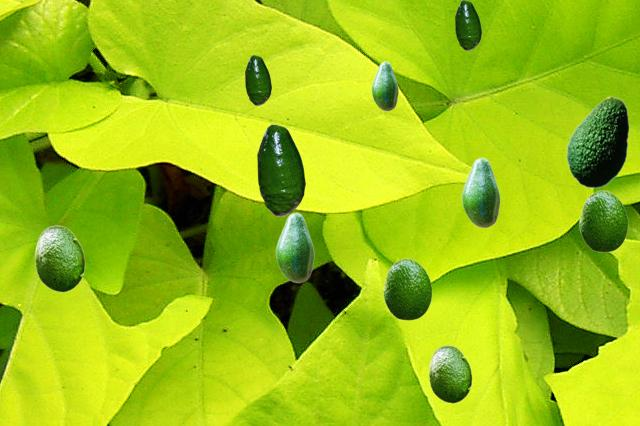avocado: (566, 96, 628, 187), (257, 124, 304, 215), (34, 225, 84, 291), (383, 258, 431, 319), (579, 190, 627, 251), (275, 212, 313, 282), (461, 157, 499, 227), (428, 345, 471, 402), (371, 61, 397, 110), (245, 55, 270, 104), (455, 0, 480, 49)
